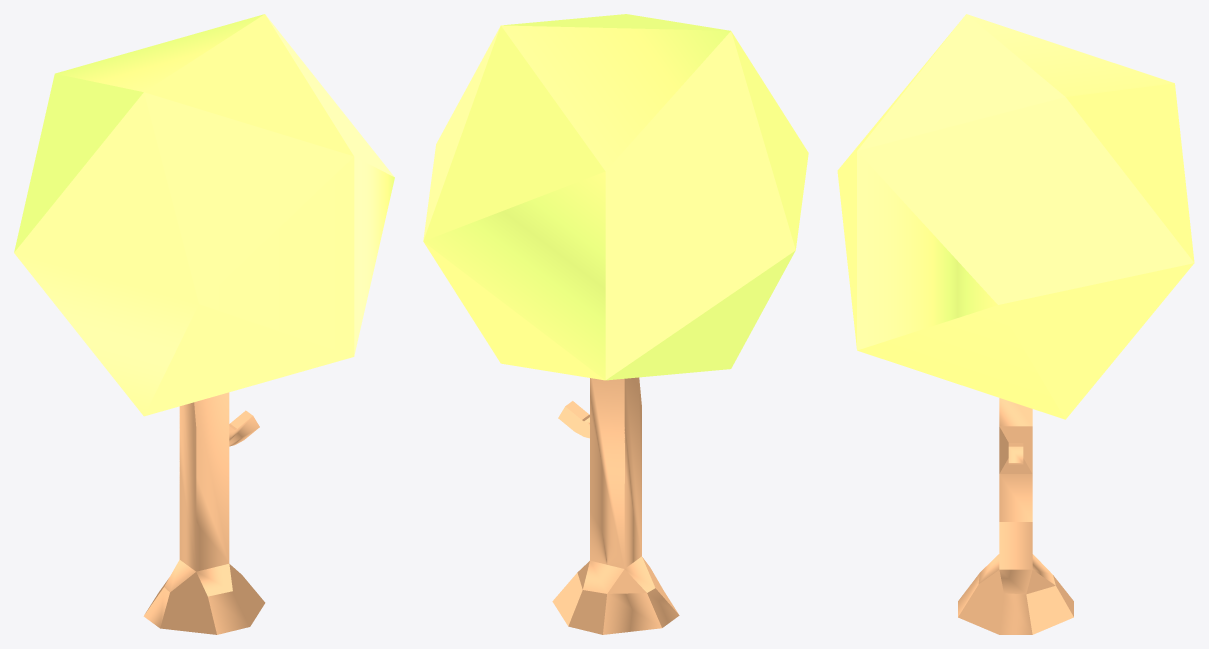
Rendered from tree2.fbx.
The picture shows the model from 3 angles, left to right: view 1: azimuth 30°, elevation 25°; view 2: azimuth 150°, elevation 25°; view 3: azimuth 270°, elevation 25°; orthographic projection. The views are drawn at different scales.
Visible parts, largest first — view 1: Merge_0; view 2: Merge_0; view 3: Merge_0.
Part boxes in pixels (bbox=[...]): Merge_0: bbox=[14, 14, 394, 634]; Merge_0: bbox=[423, 14, 808, 634]; Merge_0: bbox=[837, 14, 1194, 634].
Size of the model in its own units: 427 by 626 by 366.
